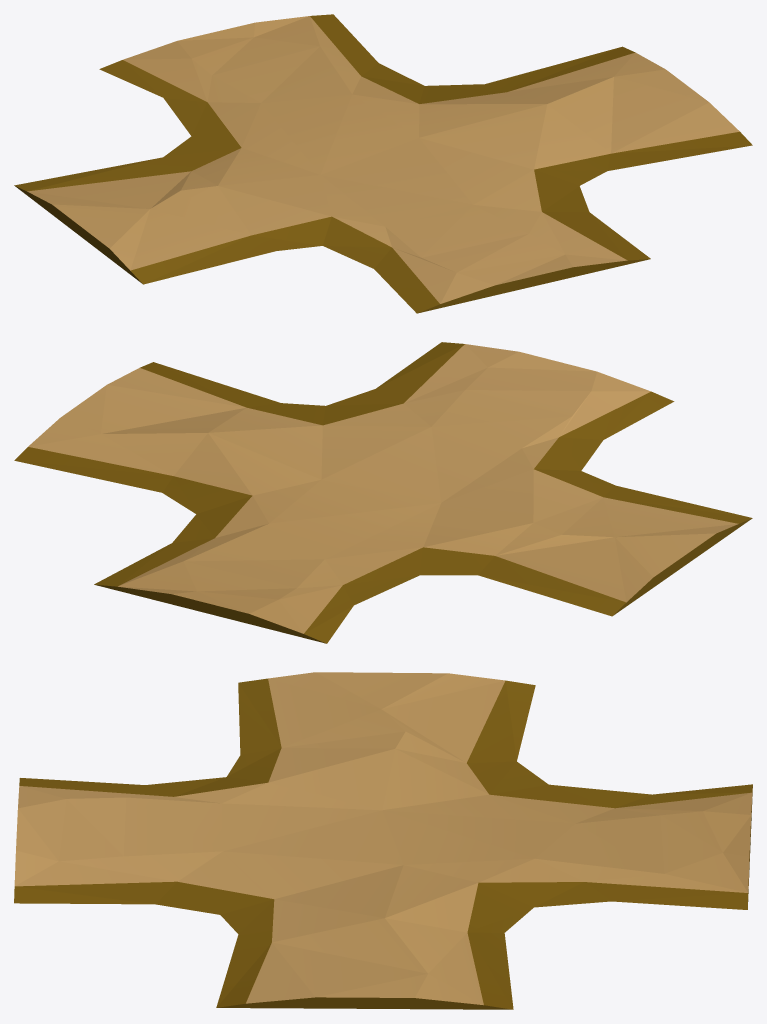
The model's file is Road_Cross.fbx.
The picture shows the model from 3 angles, top to bottom: view 1: azimuth 30°, elevation 25°; view 2: azimuth 150°, elevation 25°; view 3: azimuth 270°, elevation 25°; orthographic projection. The views are drawn at different scales.
Visible parts, largest first — view 1: Road_Cross.003; view 2: Road_Cross.003; view 3: Road_Cross.003.
Part boxes in pixels (bbox=[...]): Road_Cross.003: bbox=[14, 14, 752, 313]; Road_Cross.003: bbox=[14, 342, 752, 643]; Road_Cross.003: bbox=[14, 672, 752, 1009].
Size of the model in its own units: 7.8 by 0.2158 by 7.45.
Materials: 1 (1 with a texture image).
